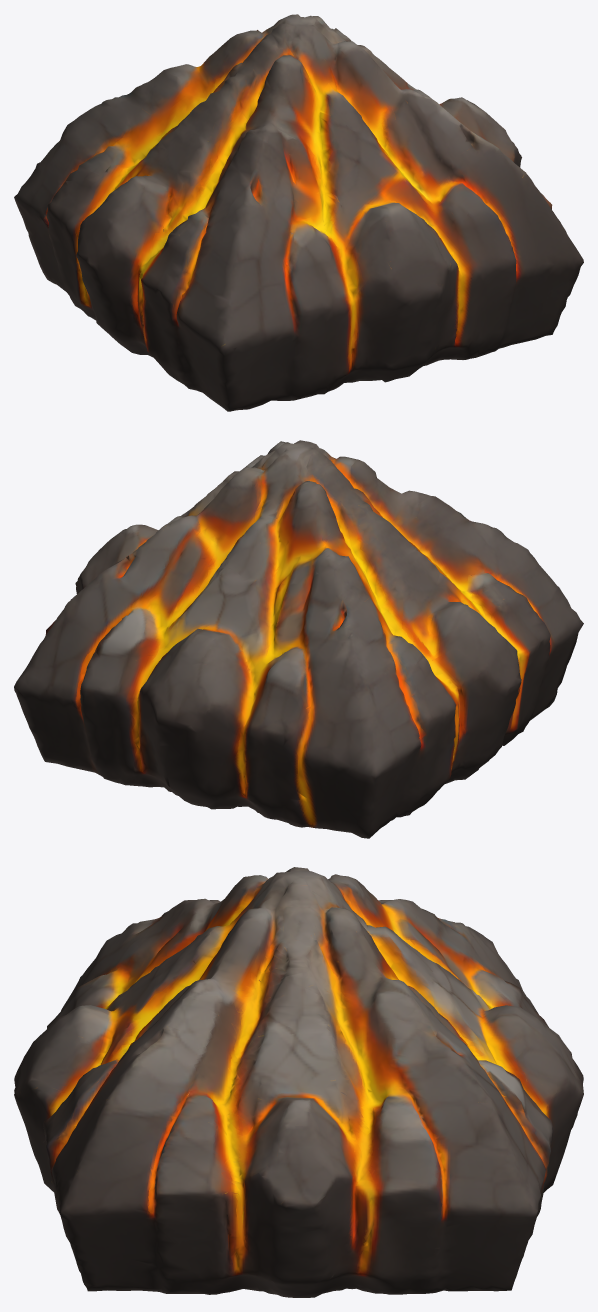
File: volcano_rock.glb
3 views of the same model, one above another, from view 1: azimuth 30°, elevation 25°; view 2: azimuth 150°, elevation 25°; view 3: azimuth 270°, elevation 25° (orthographic). The views are drawn at different scales.
Visible parts, largest first — view 1: model; view 2: model; view 3: model.
Part boxes in pixels (x1,y1,x2,y2): model: (14, 14, 583, 411); model: (14, 440, 583, 838); model: (14, 867, 583, 1297).
Size of the model in its own units: 1.9 by 1.2 by 1.9.
1 material, 1 textured.
